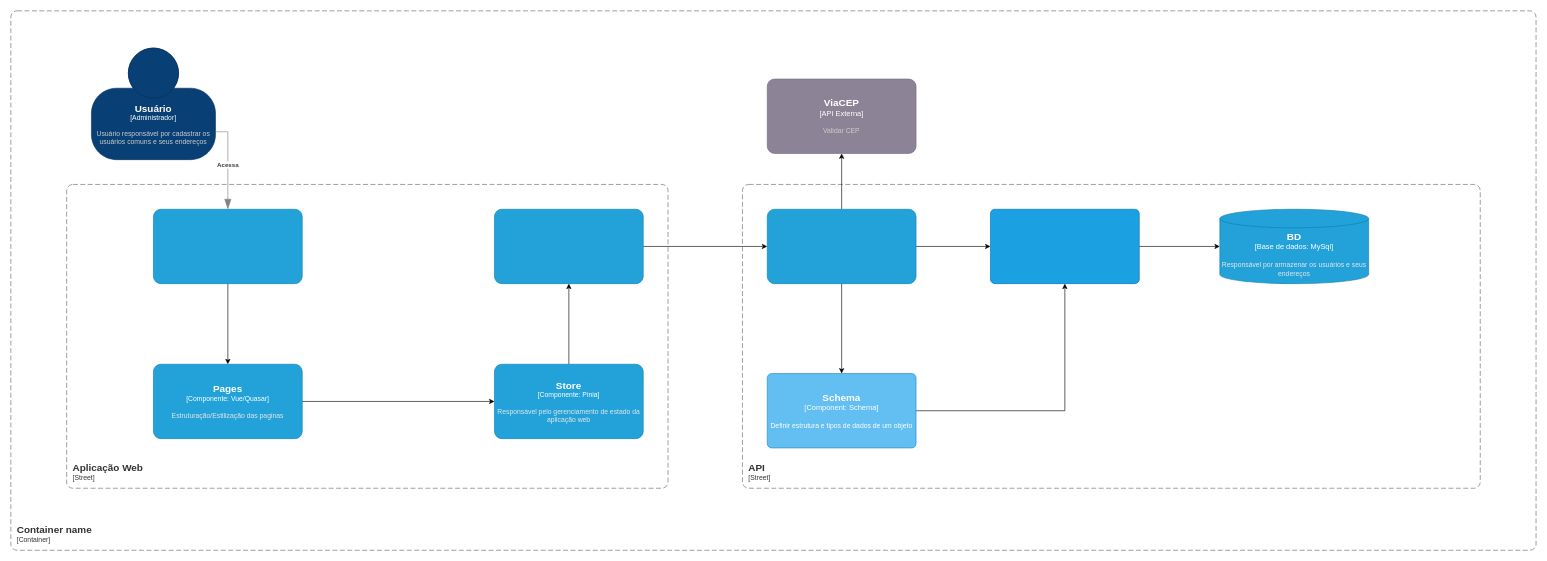
Image size: 1547x561. Some labels were removed from this diagram. Here are the shapes that lost their labels. From the top down, the centre of each, then its label:
the point at 227,246: Rotas [Componente: Vue Router] Disponibiliza as rotas de acesso ao usuário
the point at 568,246: Axios [Componente: Axios] Responsável pela conexão com a API
the point at 841,246: Controller [Component: Controller] Responsável pelo gerenciamento das Entidades
the point at 1064,246: Model [Component: Model] Responsável por persistir os dados
